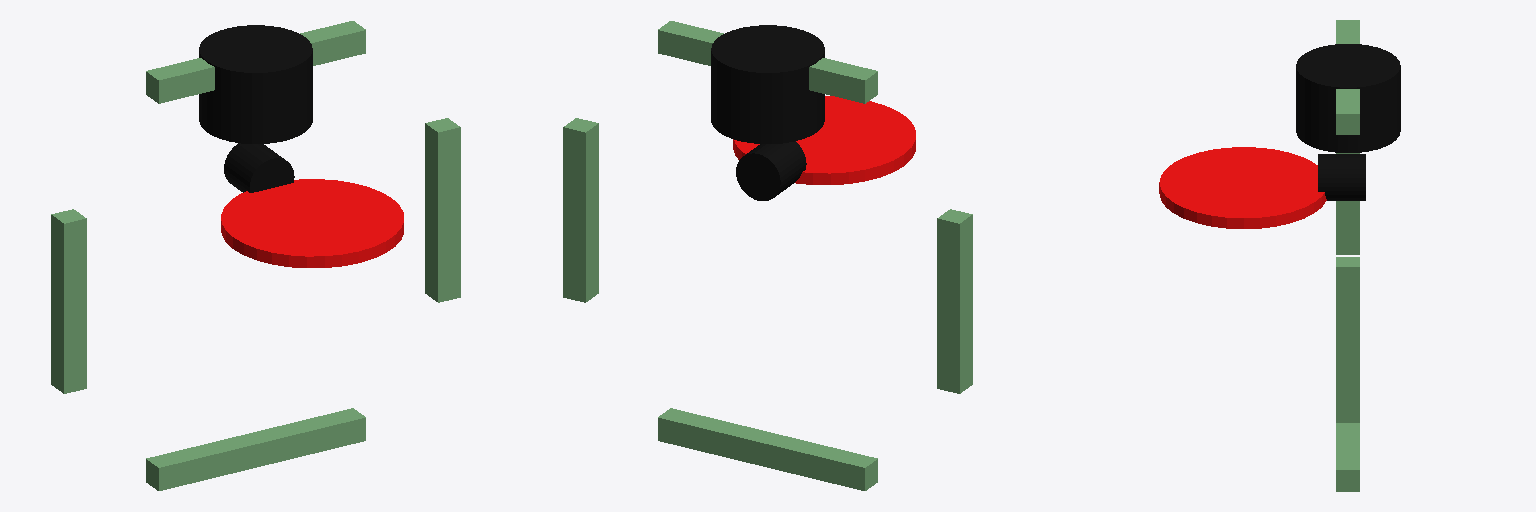
URDF robot description (cmg_device):
<?xml version="1.0" ?>
<!-- =================================================================================== -->
<!-- |    This document was autogenerated by xacro from cmgdevice.urdf.xacro           | -->
<!-- |    EDITING THIS FILE BY HAND IS NOT RECOMMENDED                                 | -->
<!-- =================================================================================== -->
<robot name="cmg_device">
  <!-- needed Gazebo defs -->
  <!-- Materials for rviz Visualization -->
  <material name="flywheel_color">
    <color rgba="1.0 0.1 0.1 1.0"/>
  </material>
  <material name="frame_color">
    <color rgba="0.5 0.7 0.5 1.0"/>
  </material>
  <material name="actuator_color">
    <color rgba="0.1 0.1 0.1 1.0"/>
  </material>
  <!-- flywheel -->
  <link name="flywheel_disk1">
    <visual>
      <geometry>
        <cylinder length="0.0127" radius="0.0889"/>
      </geometry>
      <origin rpy="1.5707963267948966 0.0 0.0" xyz="0.0 -0.0127 0.1034"/>
      <material name="flywheel_color"/>
    </visual>
    <!-- collision includes integrated annulus disk for simplification -->
    <collision>
      <geometry>
        <cylinder length="0.0254" radius="0.0889"/>
      </geometry>
      <origin rpy="1.5707963267948966 0.0 0.0" xyz="0.0 -0.00635 0.1034"/>
    </collision>
    <inertial>
      <mass value="3.048381"/>
      <inertia ixx="0.00606397" ixy="0" ixz="0" iyy="0.00606397" iyz="0" izz="0.012046"/>
      <origin rpy="1.5707963267948966 0.0 0.0" xyz="0.0 -0.00635 0.1034"/>
    </inertial>
  </link>
  <!-- NOTE: annular disk mesh created (i.e. "hard-coded" on https://stl.parts) -->
  <link name="flywheel_annulus">
    <visual>
      <geometry>
        <mesh filename="file:///disk1/home/trucker/ROS2dev/staebltech_ws/install/cmgdevice_description/share/cmgdevice_description/meshes/annular_disk_178out_152in_diam.stl" scale="0.001 0.001 0.001"/>
      </geometry>
      <origin rpy="1.5707963267948966 0.0 0.0" xyz="0.0 -0.0127 0.1034"/>
      <material name="flywheel_color"/>
    </visual>
    <inertial>
      <mass value="0.435483"/>
      <inertia ixx="0.00149843" ixy="0" ixz="0" iyy="0.00149843" iyz="0" izz="0.00298516"/>
      <origin rpy="1.5707963267948966 0.0 0.0" xyz="0.0 -0.0127 0.1034"/>
    </inertial>
  </link>
  <!-- mount the annulus disk to the mainflywheel -->
  <joint name="flywheel_annulus_joint" type="fixed">
    <parent link="flywheel_disk1"/>
    <child link="flywheel_annulus"/>
    <origin rpy="1.5707963267948966 0.0 0.0" xyz="0.0 -0.0127 0.1034"/>
  </joint>
  <!-- revolute joint to mount the main flywheel onto the servo -->
  <link name="torque_servo">
    <visual>
      <geometry>
        <cylinder length="0.076" radius="0.055"/>
      </geometry>
      <origin rpy="0 0 0" xyz="0.0 0.0 0.19480000000000003"/>
      <material name="actuator_color"/>
    </visual>
    <inertial>
      <mass value="1.089"/>
      <inertia ixx="0.0042676095" ixy="0" ixz="0" iyy="0.0042676095" iyz="0" izz="0.0016471125"/>
      <origin rpy="0 0 0" xyz="0.0 0.0 0.19480000000000003"/>
    </inertial>
  </link>
  <link name="flywheel_servo">
    <visual>
      <geometry>
        <cylinder length="0.05" radius="0.025"/>
      </geometry>
      <origin rpy="1.5707963267948966 0.0 0.0" xyz="0.0 -0.00635 0.1034"/>
      <material name="actuator_color"/>
    </visual>
    <inertial>
      <mass value="0.559"/>
      <inertia ixx="0.0002038020833333334" ixy="0" ixz="0" iyy="0.0002038020833333334" iyz="0" izz="0.00017468750000000004"/>
      <origin rpy="1.5707963267948966 0.0 0.0" xyz="0.0 -0.00635 0.1034"/>
    </inertial>
  </link>
  <link name="bar_1B">
    <visual>
      <geometry>
        <box size="0.2318 0.025 0.025"/>
      </geometry>
      <origin xyz="0 0 0"/>
      <material name="frame_color"/>
    </visual>
    <collision>
      <geometry>
        <box size="0.2318 0.025 0.025"/>
      </geometry>
      <origin xyz="0 0 0"/>
    </collision>
    <inertial>
      <mass value="0.1759033465224"/>
      <inertia ixx="1.8323265262750002e-05" ixy="0" ixz="0" iyy="0.0007967870433645617" iyz="0" izz="0.0007967870433645617"/>
      <origin xyz="0 0 0"/>
    </inertial>
  </link>
  <link name="bar_1T">
    <visual>
      <geometry>
        <box size="0.2318 0.025 0.025"/>
      </geometry>
      <origin xyz="0 0 0.2068"/>
      <material name="frame_color"/>
    </visual>
    <collision>
      <geometry>
        <box size="0.2318 0.025 0.025"/>
      </geometry>
      <origin xyz="0 0 0.2068"/>
    </collision>
    <inertial>
      <mass value="0.1759033465224"/>
      <inertia ixx="1.8323265262750002e-05" ixy="0" ixz="0" iyy="0.0007967870433645617" iyz="0" izz="0.0007967870433645617"/>
      <origin xyz="0 0 0.2068"/>
    </inertial>
  </link>
  <link name="bar_2L">
    <visual>
      <geometry>
        <box size="0.025 0.025 0.18180000000000002"/>
      </geometry>
      <origin xyz="-0.1044 0 0.1034"/>
      <material name="frame_color"/>
    </visual>
    <collision>
      <geometry>
        <box size="0.025 0.025 0.18180000000000002"/>
      </geometry>
      <origin xyz="-0.1044 0 0.1034"/>
    </collision>
    <inertial>
      <mass value="0.1379604331224"/>
      <inertia ixx="0.00038716572136115773" ixy="0" ixz="0" iyy="1.4370878450250002e-05" iyz="0" izz="1.4370878450250002e-05"/>
      <origin xyz="-0.1044 0 0.1034"/>
    </inertial>
  </link>
  <link name="bar_2R">
    <visual>
      <geometry>
        <box size="0.025 0.025 0.18180000000000002"/>
      </geometry>
      <origin xyz="0.1044 0 0.1034"/>
      <material name="frame_color"/>
    </visual>
    <collision>
      <geometry>
        <box size="0.025 0.025 0.18180000000000002"/>
      </geometry>
      <origin xyz="0.1044 0 0.1034"/>
    </collision>
    <inertial>
      <mass value="0.1379604331224"/>
      <inertia ixx="0.00038716572136115773" ixy="0" ixz="0" iyy="1.4370878450250002e-05" iyz="0" izz="1.4370878450250002e-05"/>
      <origin xyz="0.1044 0 0.1034"/>
    </inertial>
  </link>
  <joint name="bar_1B_1T" type="fixed">
    <parent link="bar_1B"/>
    <child link="bar_1T"/>
    <origin xyz="0 0 0.2068"/>
  </joint>
  <joint name="bar_1B_2L" type="fixed">
    <parent link="bar_1B"/>
    <child link="bar_2L"/>
    <origin xyz="-0.1044 0 0.1034"/>
  </joint>
  <joint name="bar_1B_2R" type="fixed">
    <parent link="bar_1B"/>
    <child link="bar_2R"/>
    <origin xyz="0.1044 0 0.1034"/>
  </joint>
  <joint name="attached_torque_servo" type="fixed">
    <parent link="bar_1B"/>
    <child link="torque_servo"/>
    <origin xyz="0.0 0.0 0.19480000000000003"/>
  </joint>
  <joint name="roll_moment_joint" type="revolute">
    <parent link="torque_servo"/>
    <child link="flywheel_servo"/>
    <axis xyz="0 0 1"/>
    <origin xyz="0 0 0"/>
    <limit effort="22.6" lower="-0.7853981633974483" upper="0.7853981633974483" velocity="500"/>
  </joint>
  <joint name="flywheel_joint" type="revolute">
    <parent link="flywheel_servo"/>
    <child link="flywheel_disk1"/>
    <axis xyz="0 1 0"/>
    <origin rpy="1.5707963267948966 0.0 0.0" xyz="0.0 -0.00635 0.1034"/>
    <limit effort="1000" lower="-3.14159" upper="3.14159" velocity="5670.0"/>
  </joint>
</robot>

--- Render facts (derived) ---
3 views of the same robot in one strip: view 1: azimuth 30°, elevation 25°; view 2: azimuth 150°, elevation 25°; view 3: azimuth 270°, elevation 25° (orthographic).
Robot: cmg_device — 8 links, 7 joints (2 revolute, 5 fixed); root link bar_1B; default pose: every joint at zero.
Visible links, largest first — view 1: flywheel_disk1, torque_servo, bar_1B, bar_2L, bar_2R, bar_1T, flywheel_servo; view 2: torque_servo, flywheel_disk1, bar_1B, bar_2L, bar_2R, bar_1T, flywheel_servo; view 3: flywheel_disk1, torque_servo, bar_2R, flywheel_servo, bar_1T, bar_1B, bar_2L.
Link boxes in pixels (box(x1,y1,x2,y2)): flywheel_disk1: box(221, 179, 403, 267); torque_servo: box(199, 25, 312, 143); bar_1B: box(146, 408, 365, 490); bar_2L: box(51, 209, 86, 393); bar_2R: box(425, 118, 460, 302); bar_1T: box(146, 21, 365, 103); flywheel_servo: box(224, 143, 294, 192); torque_servo: box(711, 25, 824, 143); flywheel_disk1: box(733, 96, 915, 184); bar_1B: box(658, 408, 877, 490); bar_2L: box(937, 209, 972, 393); bar_2R: box(563, 118, 598, 302); bar_1T: box(658, 21, 877, 103); flywheel_servo: box(736, 141, 806, 200); flywheel_disk1: box(1159, 147, 1326, 228); torque_servo: box(1296, 44, 1400, 152); bar_2R: box(1336, 257, 1359, 422); flywheel_servo: box(1318, 154, 1365, 200); bar_1T: box(1336, 20, 1359, 134); bar_1B: box(1336, 423, 1359, 491); bar_2L: box(1336, 153, 1359, 254).
Bounding box of the posed robot: 0.4426 × 0.2537 × 0.4401 m (x, y, z).
Geometry: only primitive shapes (box / cylinder / sphere) drawn; not drawn: 1 mesh visual (reference in a form the renderer does not follow).
